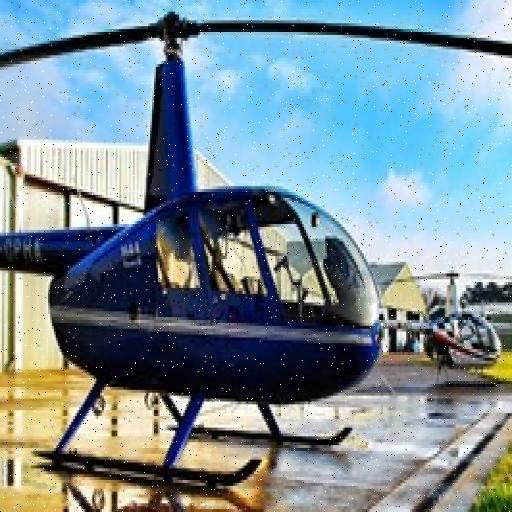helicopter: (1, 16, 512, 496)
